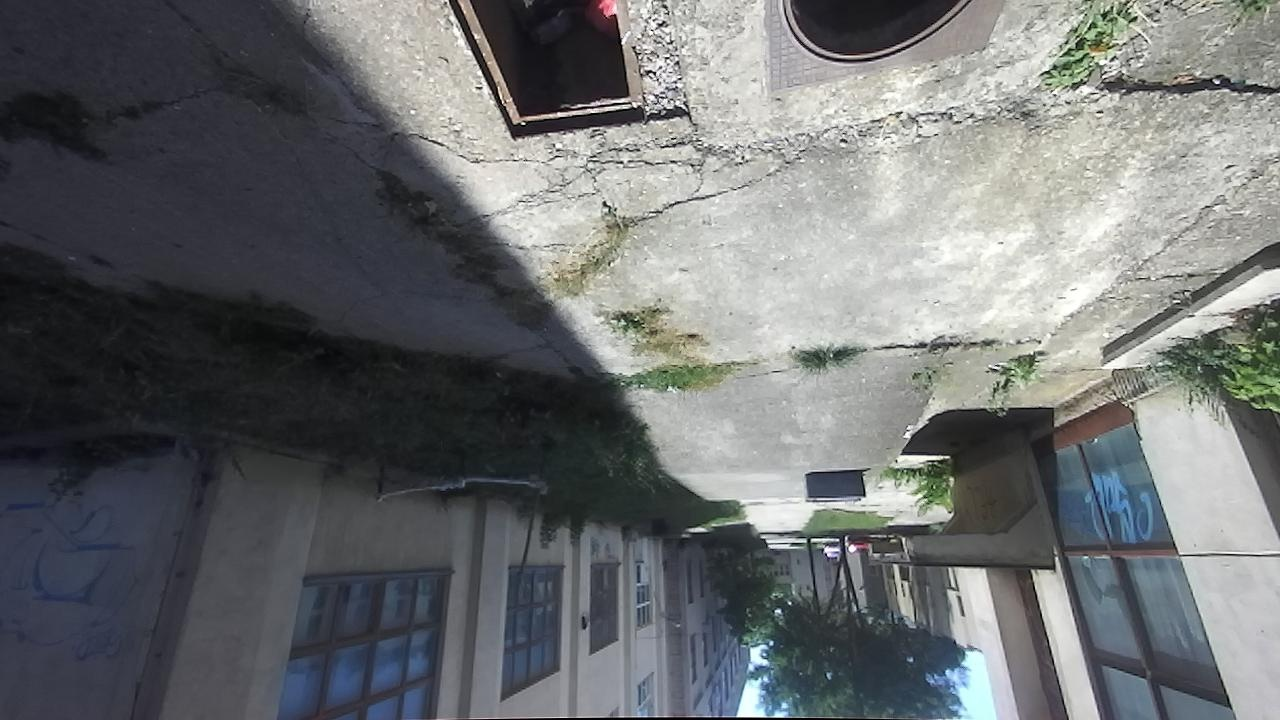drain: (437, 0, 650, 140), (770, 0, 971, 74)
